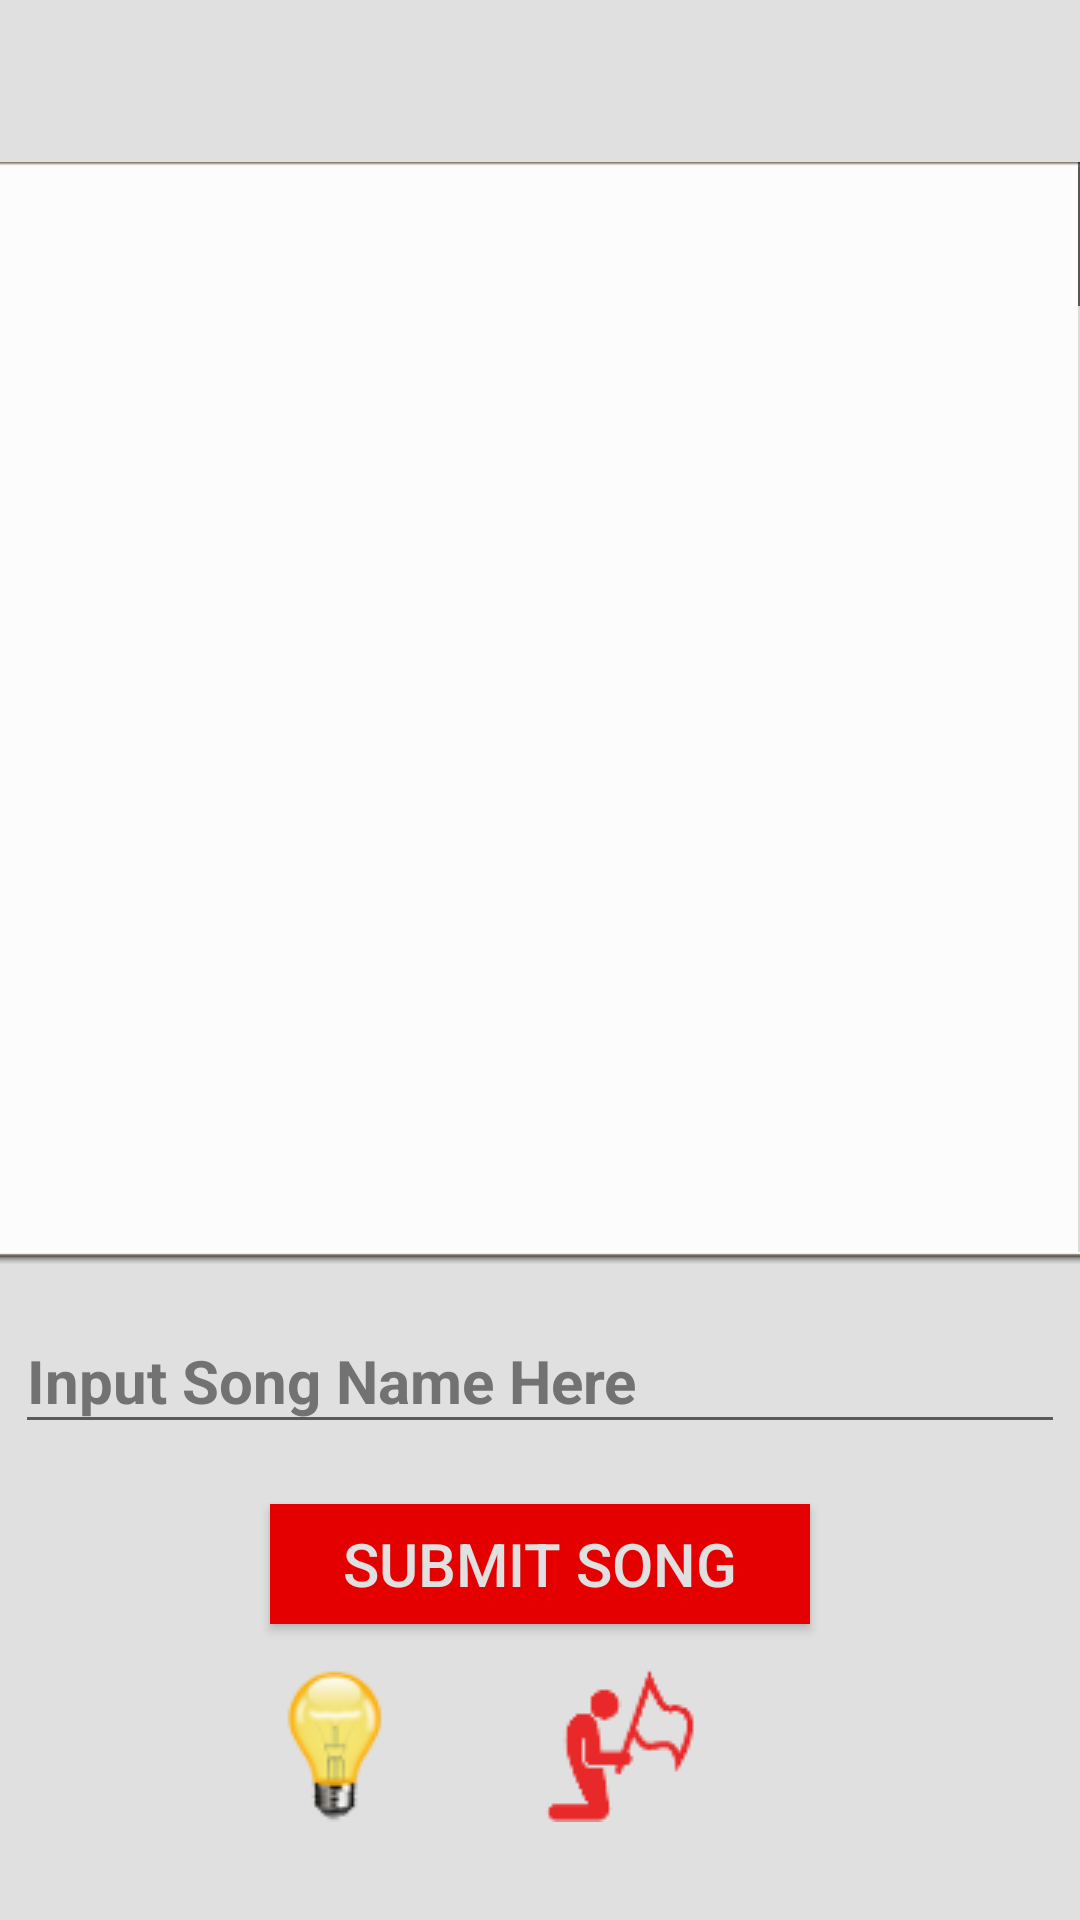

Where icons sit on this 1080px x 1920px app screen, as [x1,y1,x2,y2]:
hint: [287,1671,382,1820]
surrender: [548,1671,694,1822]
